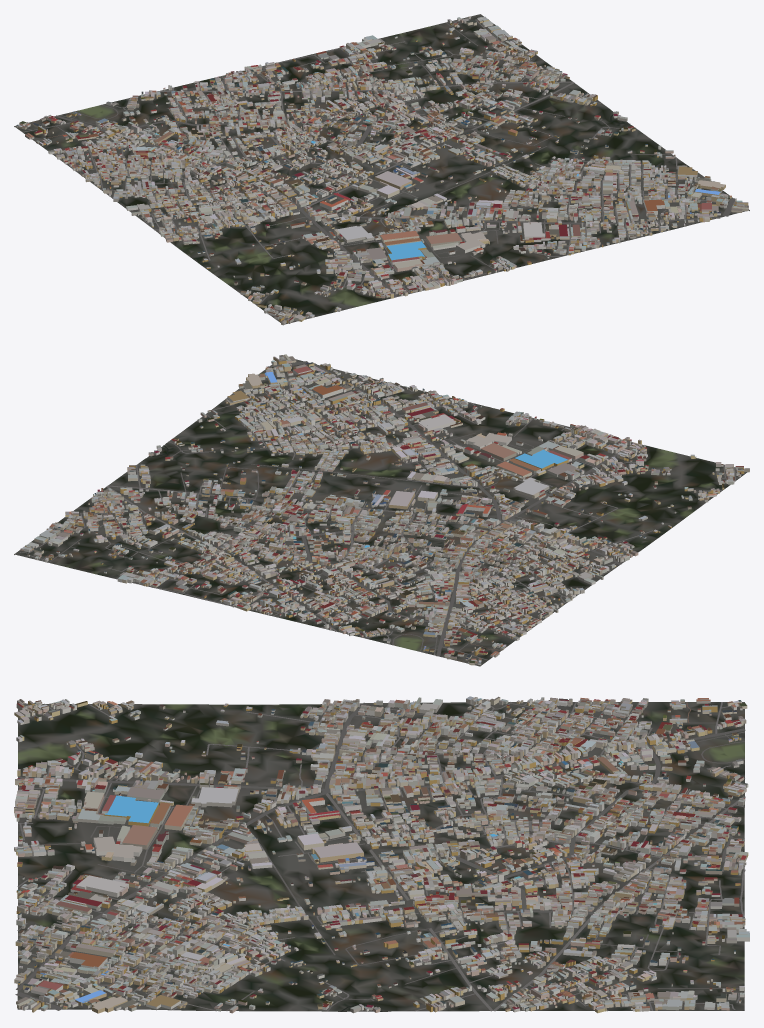
3 views of the same model, one above another, from view 1: azimuth 30°, elevation 25°; view 2: azimuth 150°, elevation 25°; view 3: azimuth 270°, elevation 25° (orthographic). The views are drawn at different scales.
Parts seen in each view (by area): view 1: buildings, ground, roads; view 2: buildings, ground, roads; view 3: buildings, ground, roads.
Boxes of the visible parts, x1,y1,x2,y2 form: buildings: (16, 16, 748, 325); ground: (14, 14, 749, 324); roads: (22, 19, 736, 321); buildings: (20, 354, 749, 665); ground: (14, 359, 747, 666); roads: (19, 361, 739, 665); buildings: (14, 696, 749, 1013); ground: (17, 702, 744, 1011); roads: (15, 702, 745, 1011).
Bounding box in the file's own units: 1425 × 26.19 × 1418.
